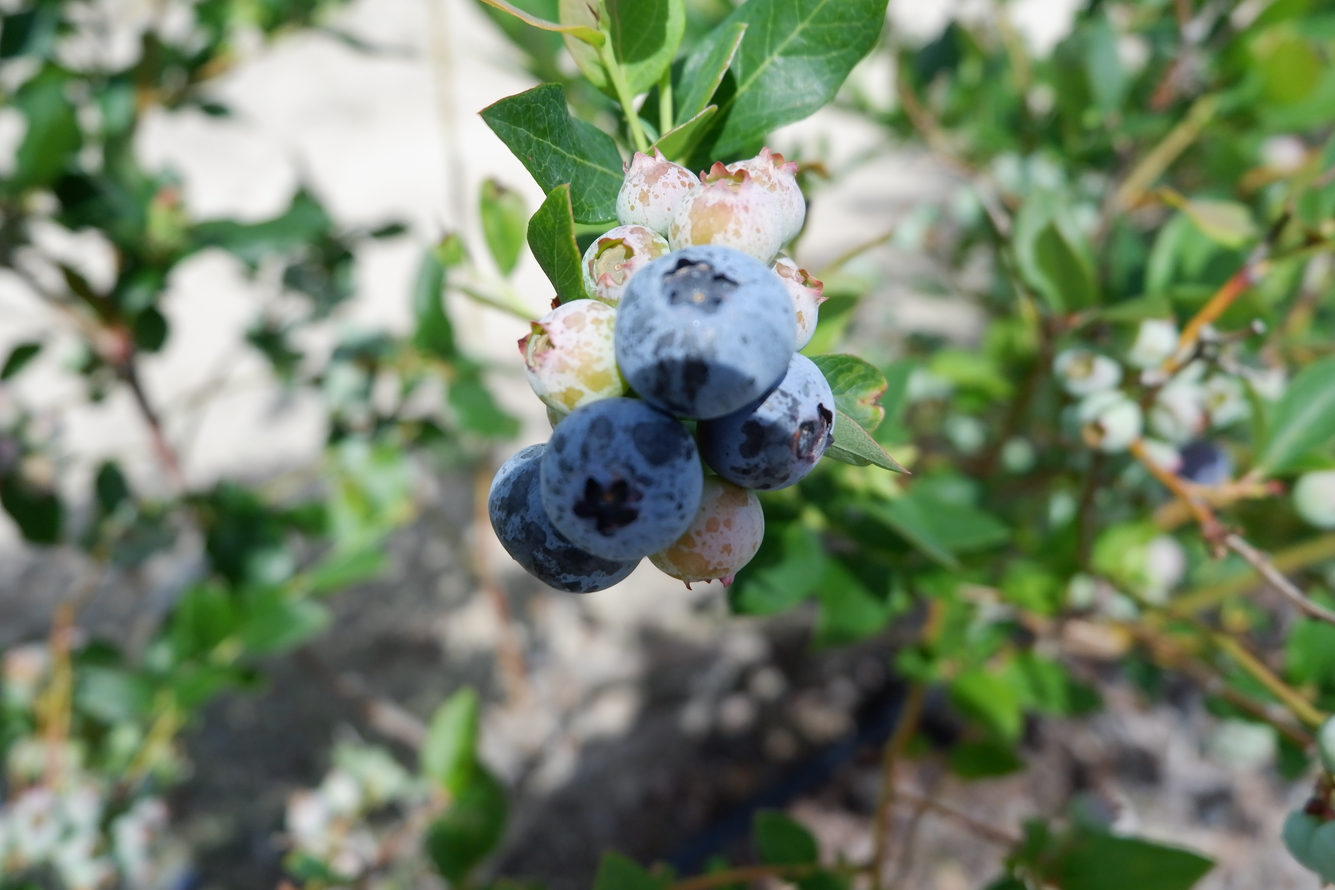Immature: (669, 162, 785, 269), (653, 476, 763, 582), (522, 302, 625, 409), (721, 147, 806, 250), (617, 152, 695, 241), (582, 227, 668, 305), (771, 254, 821, 346), (546, 405, 571, 435)
Mature: (618, 249, 792, 419), (540, 395, 706, 564), (490, 442, 643, 595), (701, 355, 834, 487)
